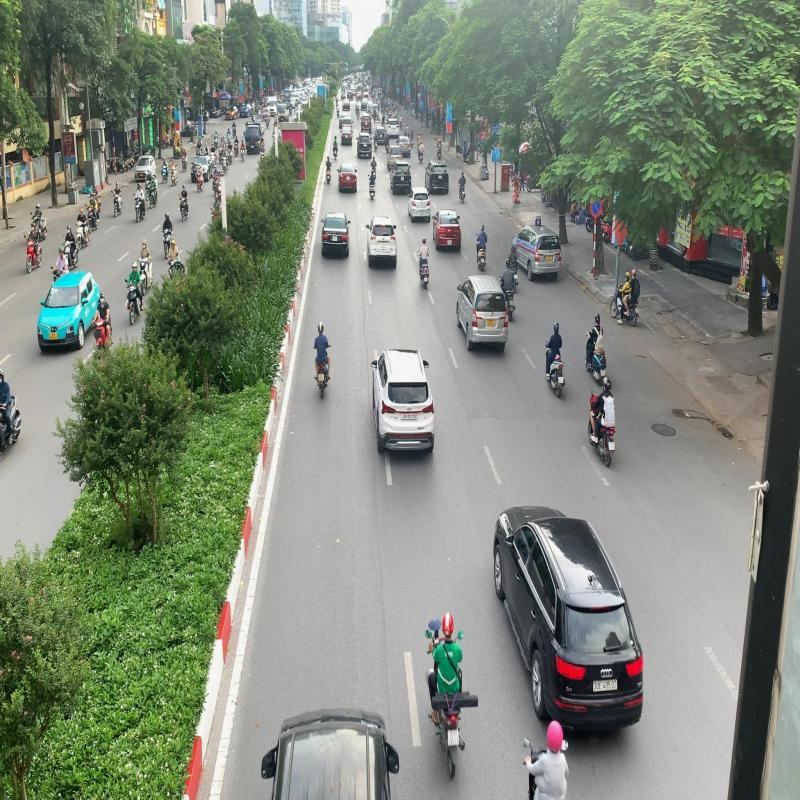helmet: (546, 720, 563, 754), (442, 612, 455, 638)
licenseplate: (448, 729, 460, 747)
motorcyclist: (424, 610, 478, 782)
